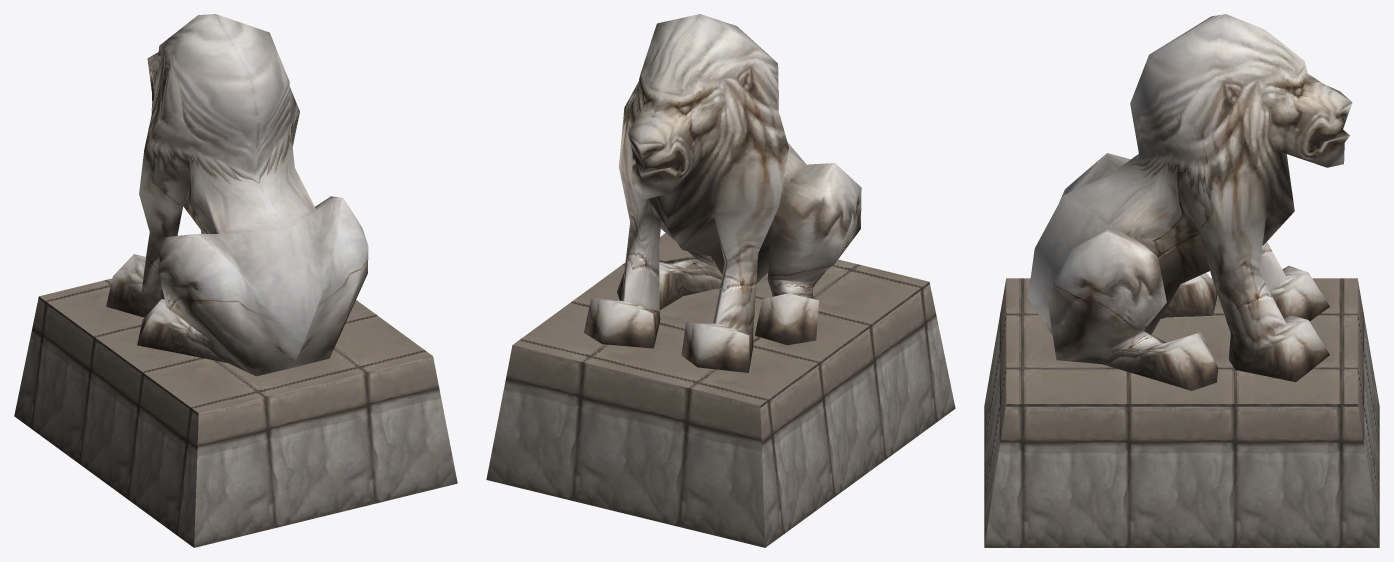
The model's file is lionstatue.obj.
3 views of the same model, side by side, from view 1: azimuth 30°, elevation 25°; view 2: azimuth 150°, elevation 25°; view 3: azimuth 270°, elevation 25° (orthographic). The views are drawn at different scales.
Parts seen in each view (by area): view 1: Geoset0, Geoset2, Geoset1; view 2: Geoset2, Geoset0, Geoset1; view 3: Geoset0, Geoset2, Geoset1.
Boxes of the visible parts, x1,y1,x2,y2 form: Geoset0: [106, 14, 368, 376]; Geoset2: [14, 296, 457, 547]; Geoset1: [39, 278, 432, 413]; Geoset2: [486, 282, 955, 547]; Geoset0: [584, 14, 861, 372]; Geoset1: [513, 233, 928, 405]; Geoset0: [1028, 14, 1352, 390]; Geoset2: [984, 279, 1379, 547]; Geoset1: [1006, 278, 1357, 403].
Bounding box in the file's own units: 8.59 × 13.12 × 10.16.
Materials: 3 (3 with a texture image).
